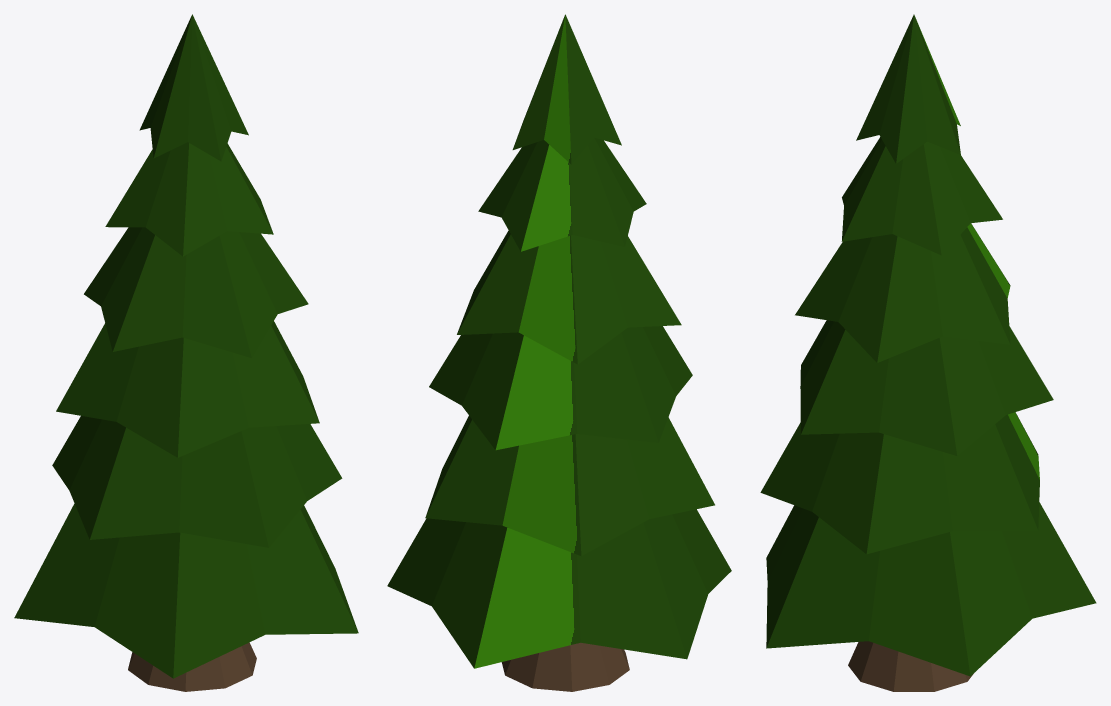
The model's file is sapin.fbx.
3 renders of one model, left to right at view 1: azimuth 30°, elevation 25°; view 2: azimuth 150°, elevation 25°; view 3: azimuth 270°, elevation 25°, orthographic.
Visible parts, largest first — view 1: Cylinder, Cylinder.001; view 2: Cylinder, Cylinder.001; view 3: Cylinder, Cylinder.001.
Part boxes in pixels (x1=…): Cylinder: x1=14, y1=14, x2=358, y2=678; Cylinder.001: x1=128, y1=642, x2=256, y2=691; Cylinder: x1=387, y1=14, x2=731, y2=668; Cylinder.001: x1=501, y1=642, x2=629, y2=691; Cylinder: x1=760, y1=14, x2=1096, y2=676; Cylinder.001: x1=848, y1=641, x2=973, y2=691.
Bounding box in the file's own units: 1672 × 3460 × 1619.
Materials: 1 (1 with a texture image).
